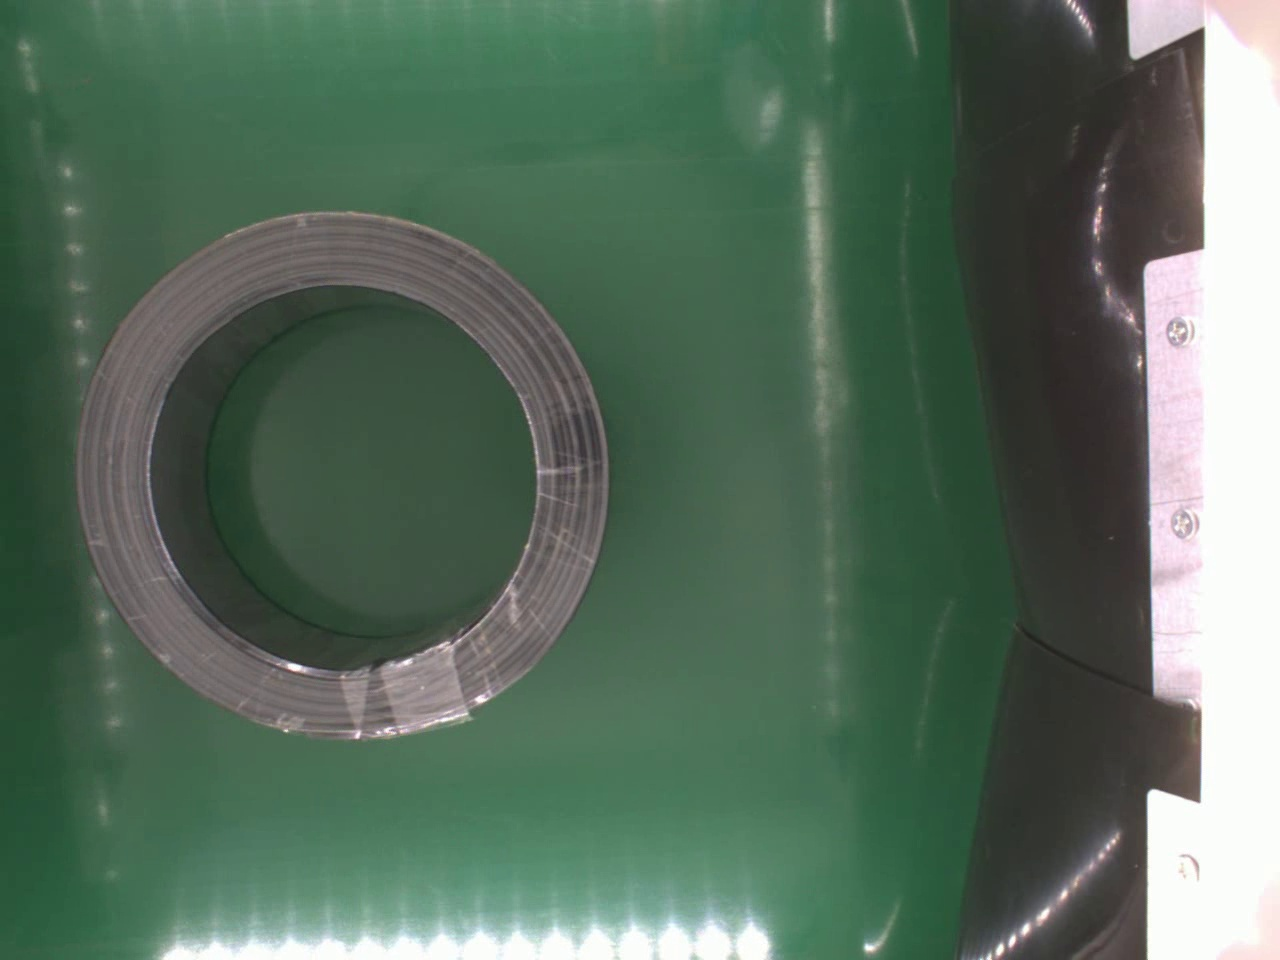black: (72, 205, 614, 746)
